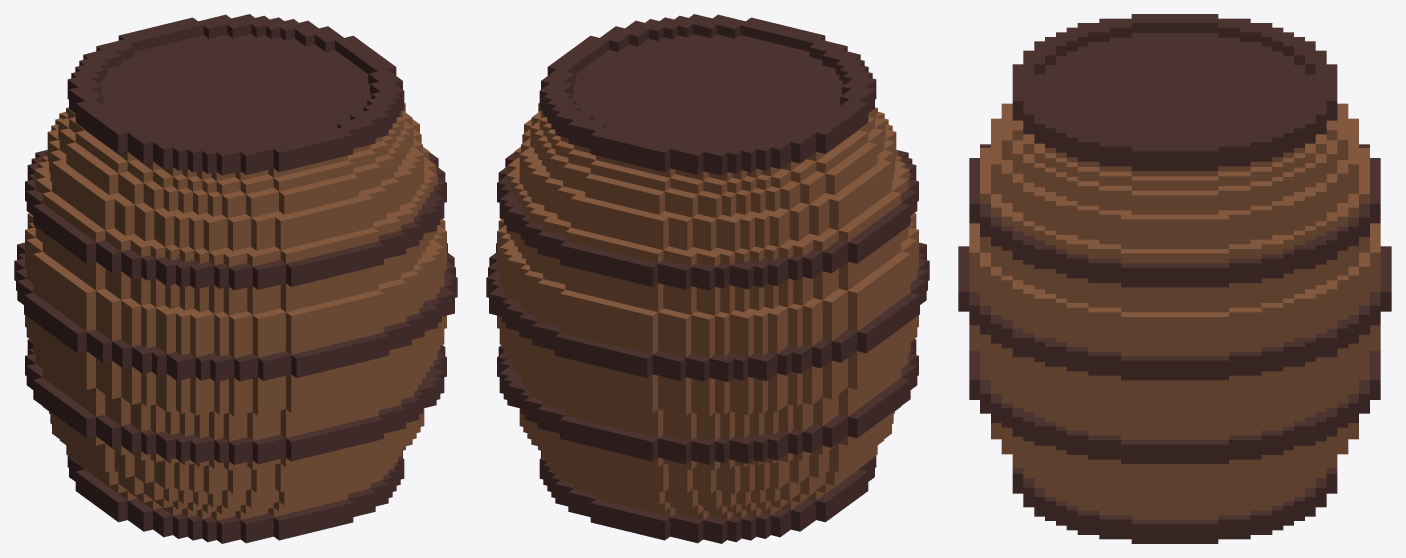
File: Barrel.obj
3 renders of one model, left to right at view 1: azimuth 30°, elevation 25°; view 2: azimuth 150°, elevation 25°; view 3: azimuth 270°, elevation 25°, orthographic.
Size of the model in its own units: 4 by 4 by 4.
1 material, 1 textured.
